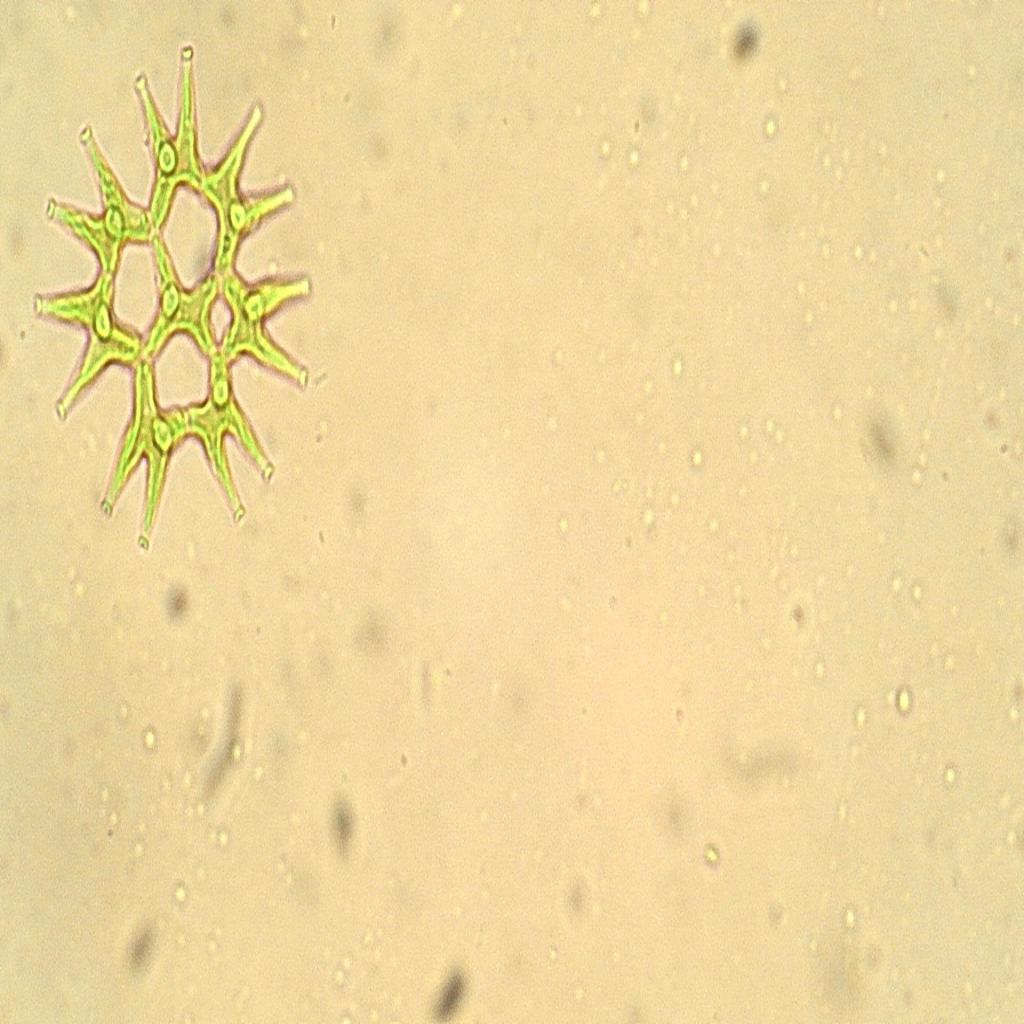Pediastrum_CTH: (19, 21, 330, 566)
